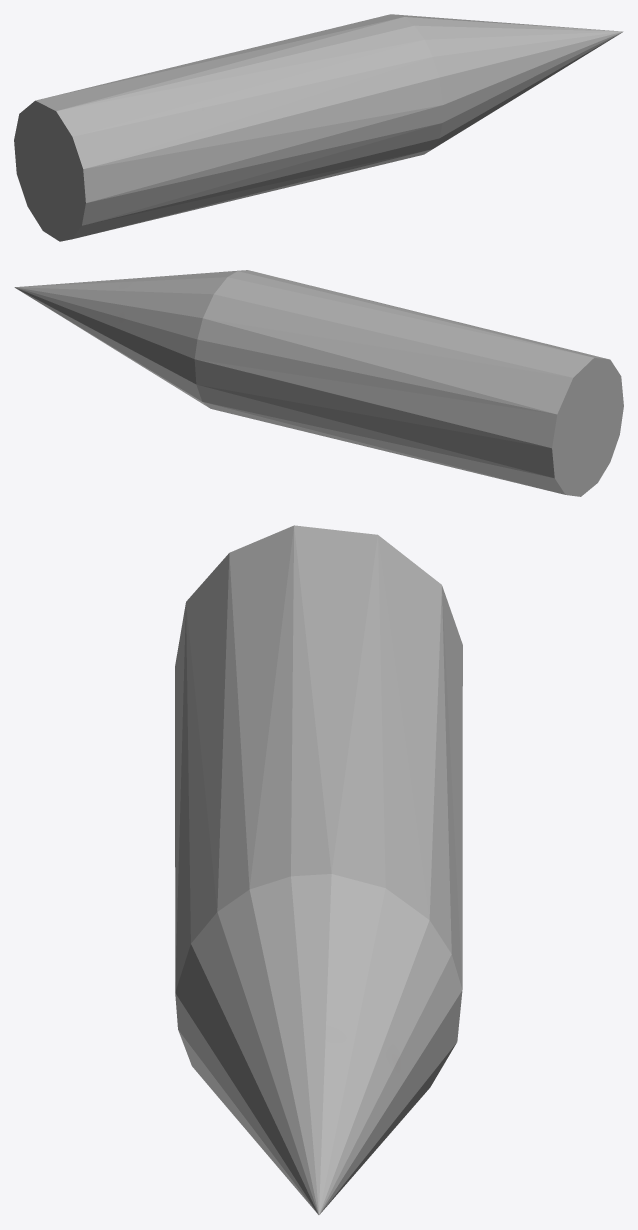
File: bolt.002.fbx
The picture shows the model from 3 angles, top to bottom: view 1: azimuth 30°, elevation 25°; view 2: azimuth 150°, elevation 25°; view 3: azimuth 270°, elevation 25°; orthographic projection. The views are drawn at different scales.
Parts seen in each view (by area): view 1: bolt.002_Baked; view 2: bolt.002_Baked; view 3: bolt.002_Baked.
Part boxes in pixels (x1=…): bolt.002_Baked: x1=14, y1=14, x2=623, y2=241; bolt.002_Baked: x1=14, y1=270, x2=623, y2=496; bolt.002_Baked: x1=175, y1=525, x2=462, y2=1214.
Bounding box in the file's own units: 3.62 × 0.7862 × 0.7866.
1 material, 1 textured.
